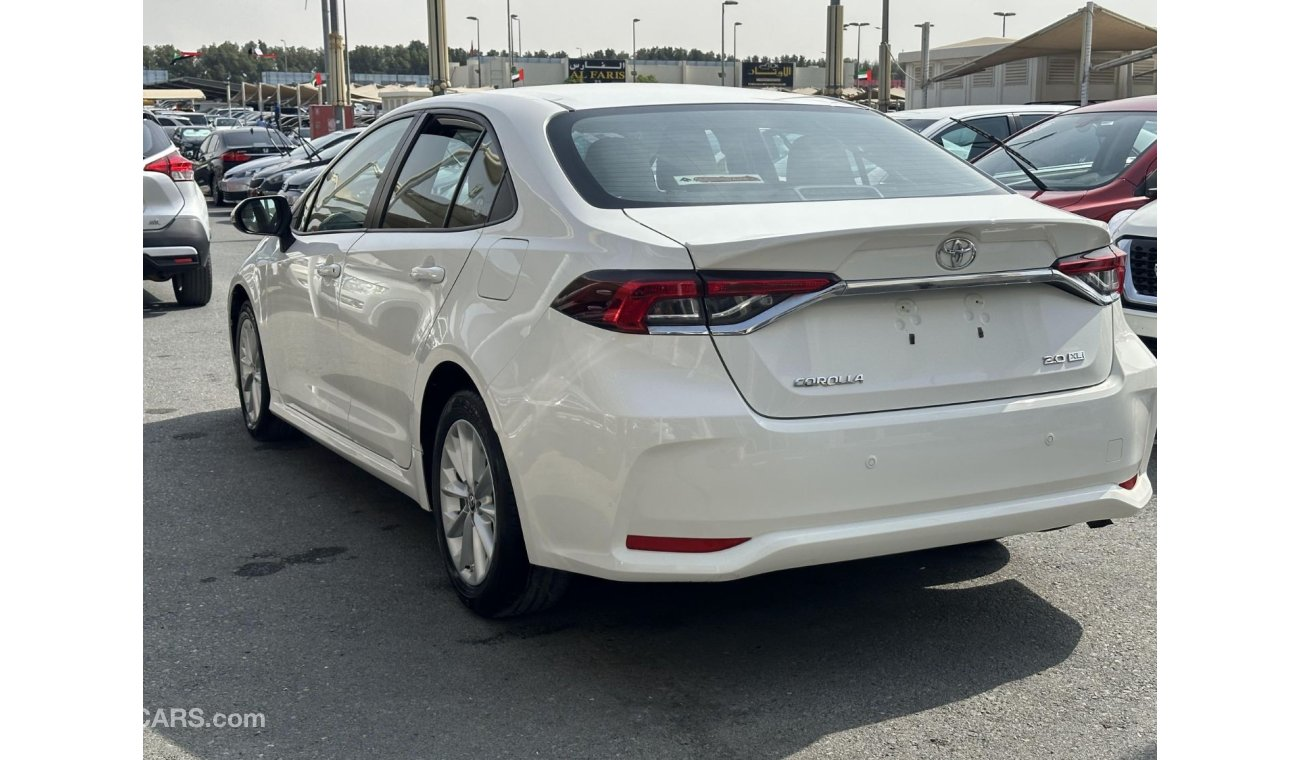car: (228, 79, 1185, 622)
